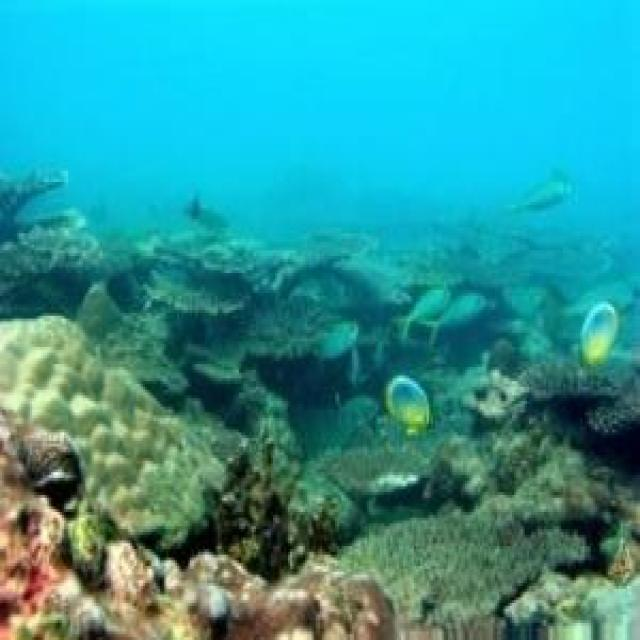bleached coral: (111, 549, 395, 640), (497, 529, 640, 640), (213, 455, 335, 580), (0, 324, 98, 432), (382, 566, 521, 629), (425, 367, 531, 435), (90, 435, 158, 521), (478, 435, 544, 503), (339, 452, 425, 503), (64, 495, 105, 569)
healthy coral: (397, 171, 574, 262), (194, 316, 361, 410), (77, 270, 186, 412), (403, 273, 587, 333), (243, 245, 397, 313), (73, 196, 228, 262), (553, 373, 640, 486)
